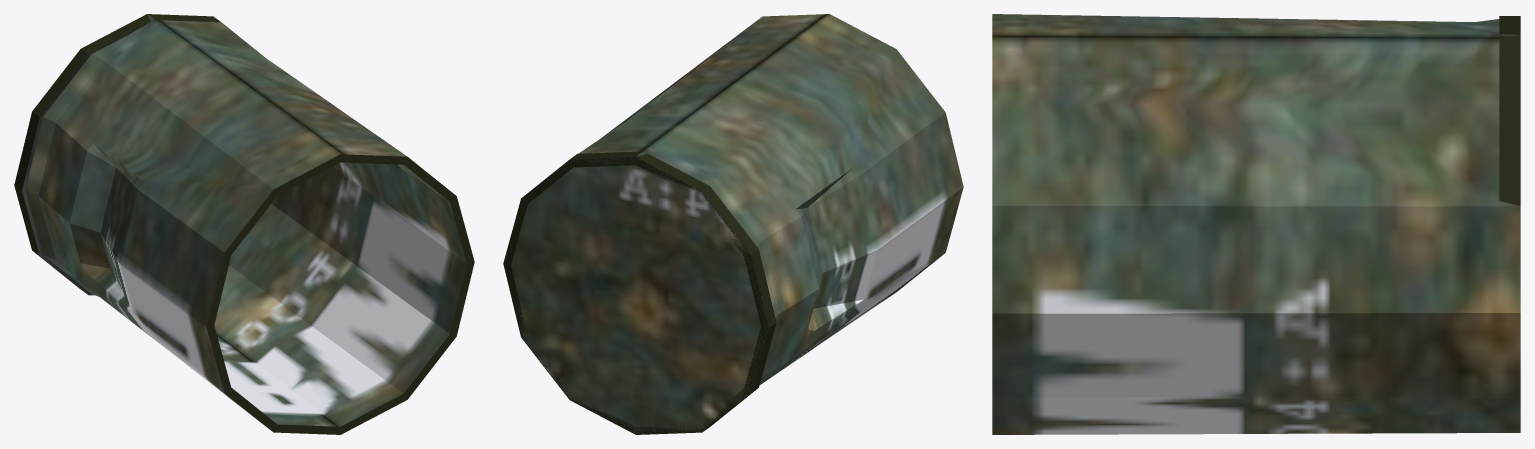
Rendered from drumbarrelopen234_wtf.obj.
3 views of the same model, side by side, from view 1: azimuth 30°, elevation 25°; view 2: azimuth 150°, elevation 25°; view 3: azimuth 270°, elevation 25° (orthographic). The views are drawn at different scales.
Parts seen in each view (by area): view 1: group2, group3, group4; view 2: group2, group3; view 3: group2, group3.
Boxes of the visible parts, x1=… form: group2: x1=25, y1=14, x2=474, y2=434; group3: x1=14, y1=14, x2=220, y2=292; group4: x1=22, y1=20, x2=256, y2=295; group2: x1=503, y1=14, x2=963, y2=434; group3: x1=503, y1=151, x2=776, y2=434; group2: x1=992, y1=14, x2=1520, y2=434; group3: x1=1499, y1=16, x2=1520, y2=205.
Bounding box in the file's own units: 528 × 528 × 660.
